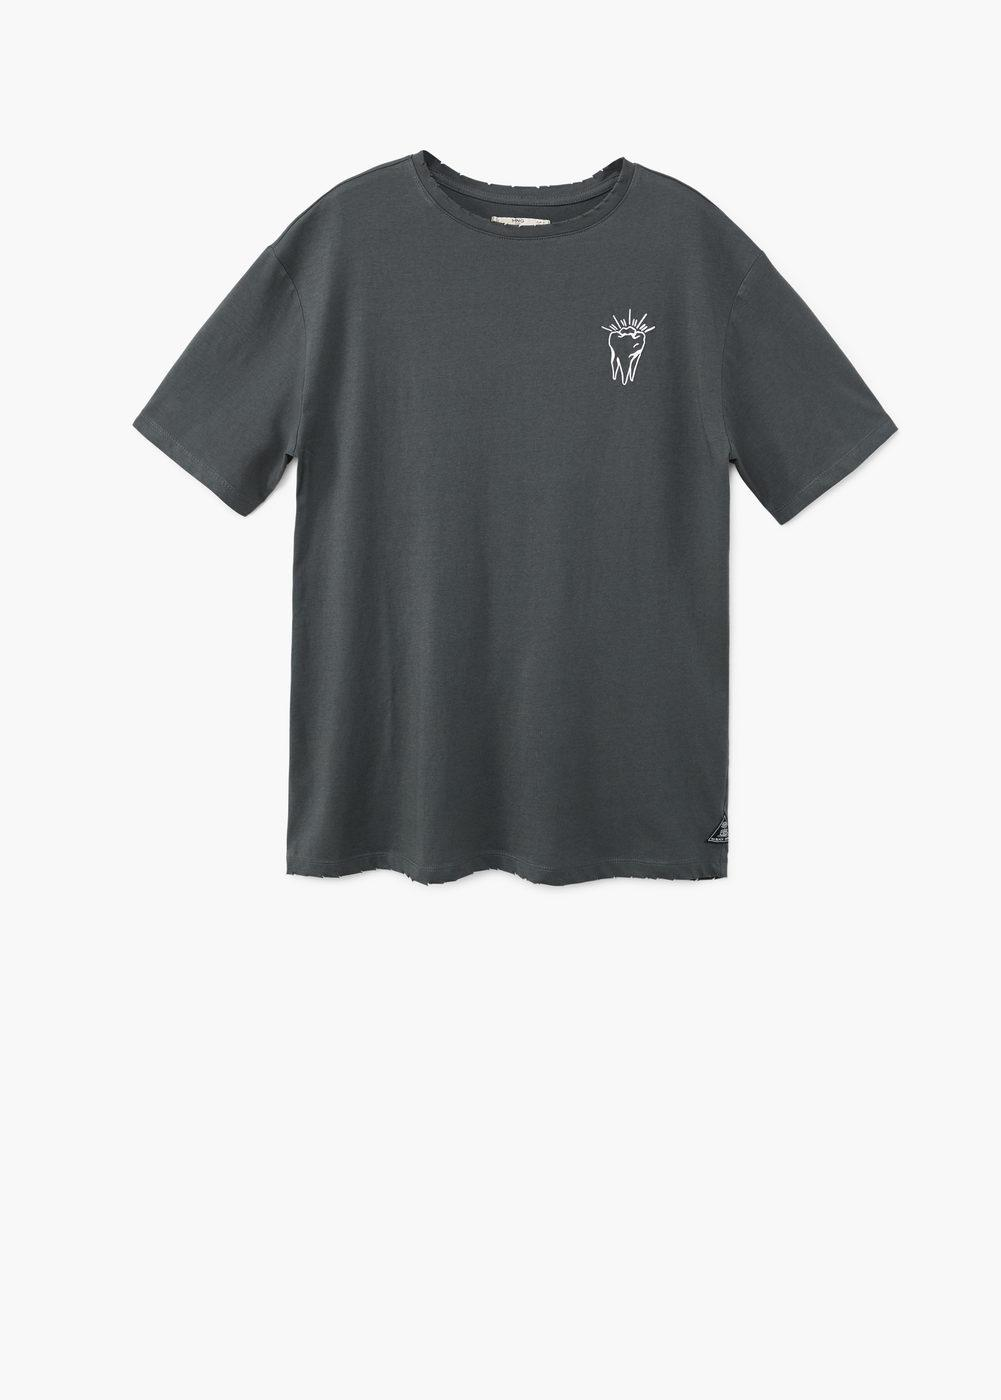teeshirt: (133, 133, 935, 1015)
